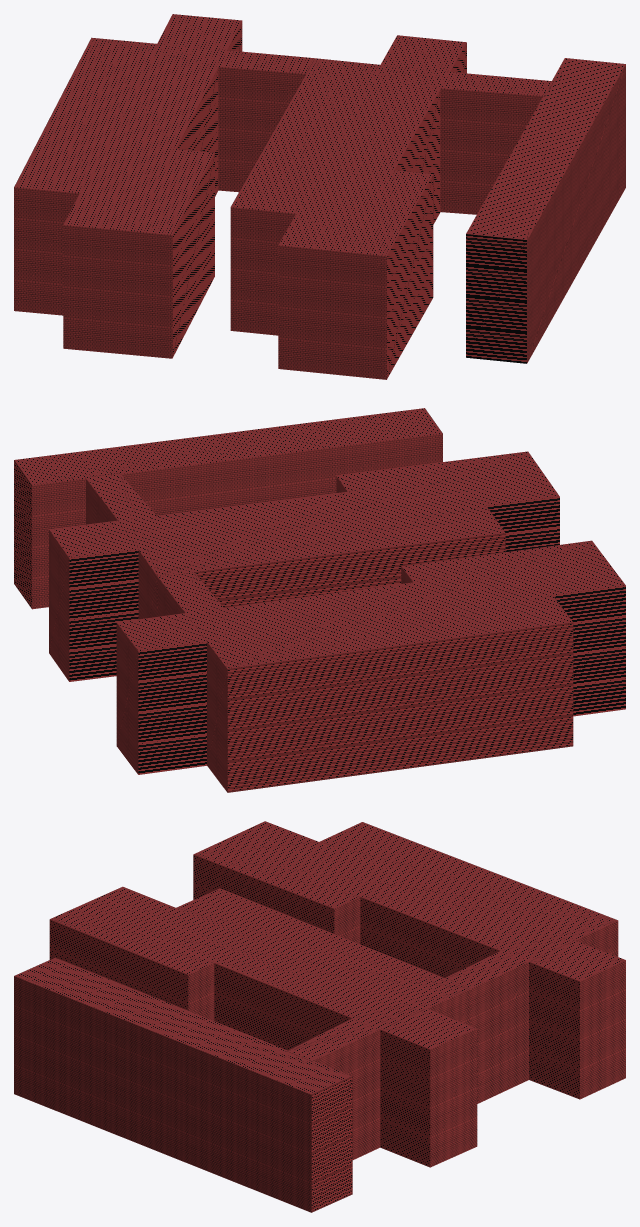
Rendered from jiaoxueloub1_b3.fbx.
3 views of the same model, one above another, from view 1: azimuth 30°, elevation 25°; view 2: azimuth 150°, elevation 25°; view 3: azimuth 270°, elevation 25° (orthographic). The views are drawn at different scales.
Parts seen in each view (by area): view 1: CityEngineMaterial_m; view 2: CityEngineMaterial_m; view 3: CityEngineMaterial_m.
Part boxes in pixels (x1=…): CityEngineMaterial_m: x1=14, y1=14, x2=625, y2=379; CityEngineMaterial_m: x1=14, y1=408, x2=625, y2=792; CityEngineMaterial_m: x1=14, y1=821, x2=625, y2=1212.
Bounding box in the file's own units: 99.33 × 20 × 93.91.
